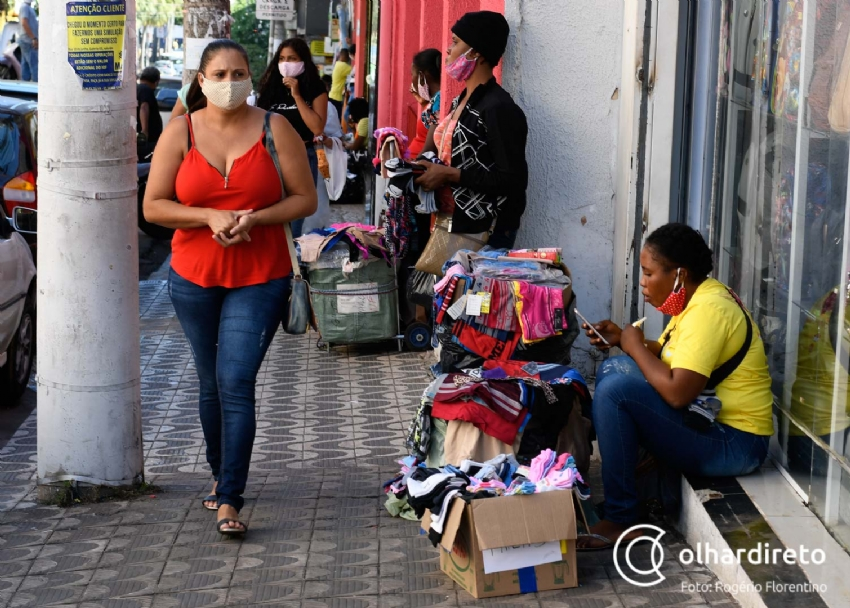mask_weared_incorrect: (636, 252, 690, 315), (442, 27, 486, 86)
with_mask: (199, 59, 255, 115)
